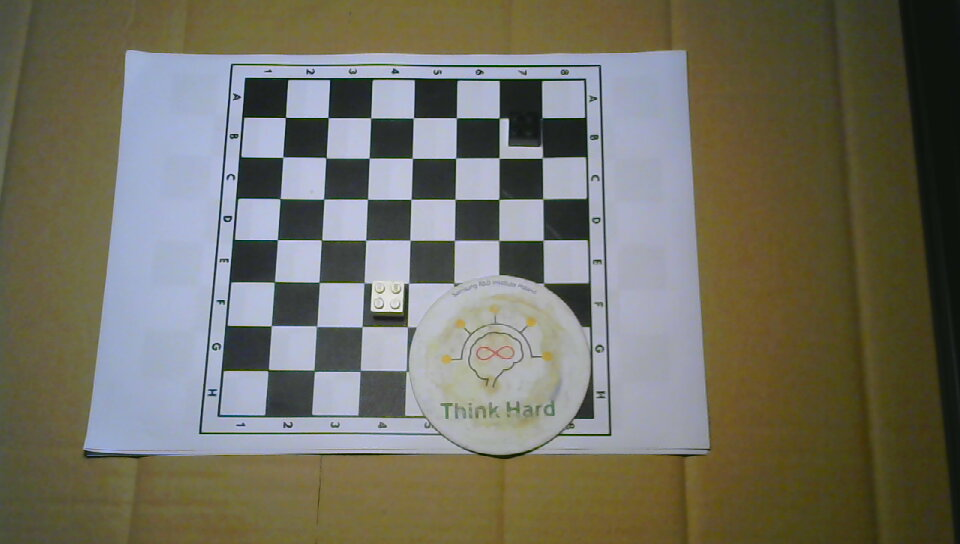bp: (506, 112, 543, 149)
wp: (369, 279, 407, 318)
